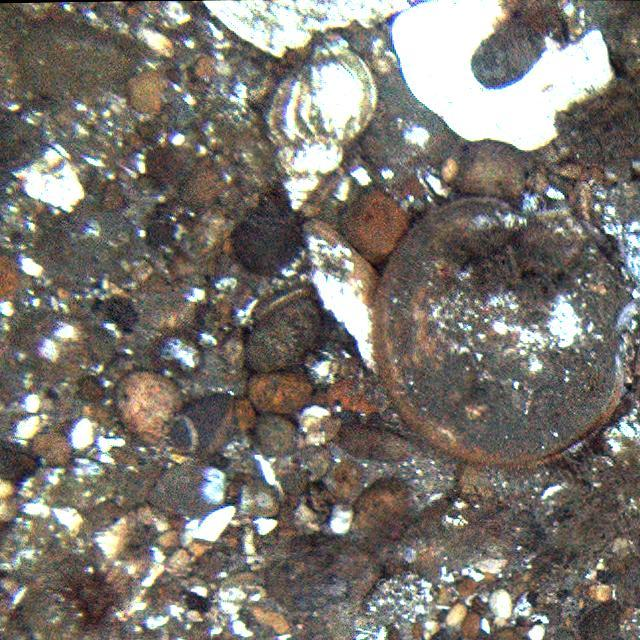whelk: (270, 33, 378, 209)
